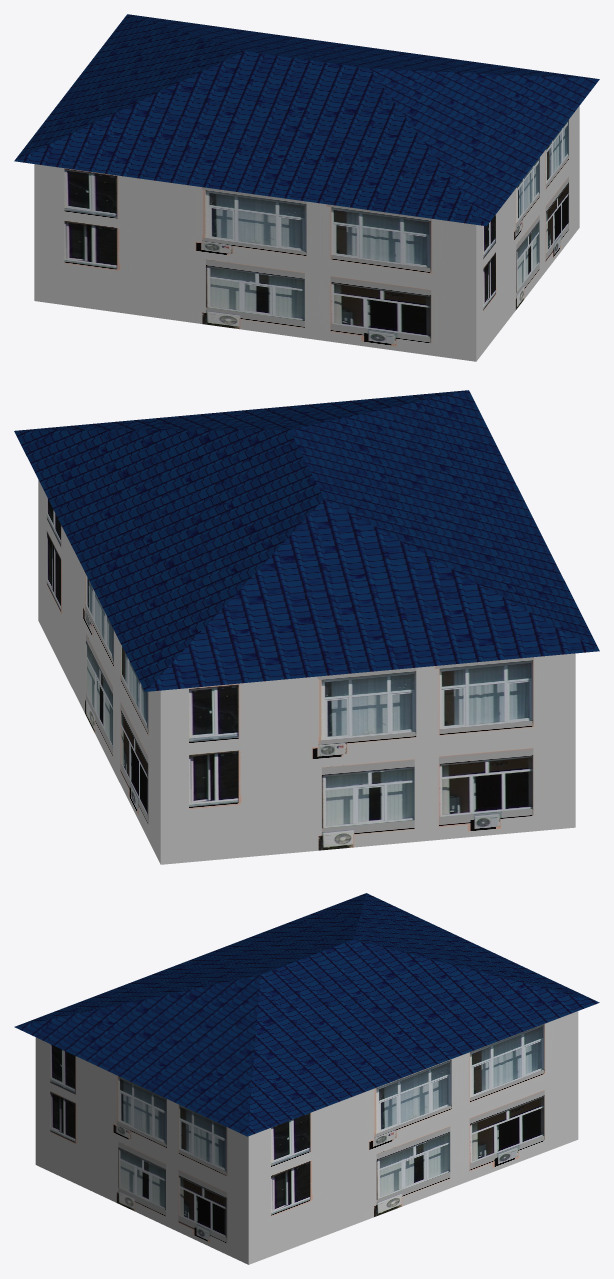
The picture shows the model from 3 angles, top to bottom: view 1: azimuth 30°, elevation 25°; view 2: azimuth 150°, elevation 25°; view 3: azimuth 270°, elevation 25°; orthographic projection. The views are drawn at different scales.
Visible parts, largest first — view 1: CityEngineMaterial_6_m, CityEngineMaterial_9_m; view 2: CityEngineMaterial_6_m, CityEngineMaterial_9_m; view 3: CityEngineMaterial_6_m, CityEngineMaterial_9_m.
Boxes of the visible parts, x1,y1,x2,y2 form: CityEngineMaterial_6_m: (14, 14, 599, 226); CityEngineMaterial_9_m: (34, 106, 579, 361); CityEngineMaterial_6_m: (14, 390, 599, 691); CityEngineMaterial_9_m: (38, 480, 575, 864); CityEngineMaterial_6_m: (14, 893, 599, 1136); CityEngineMaterial_9_m: (35, 1011, 578, 1264).
Size of the model in its own units: 35.19 by 13.13 by 35.76.
